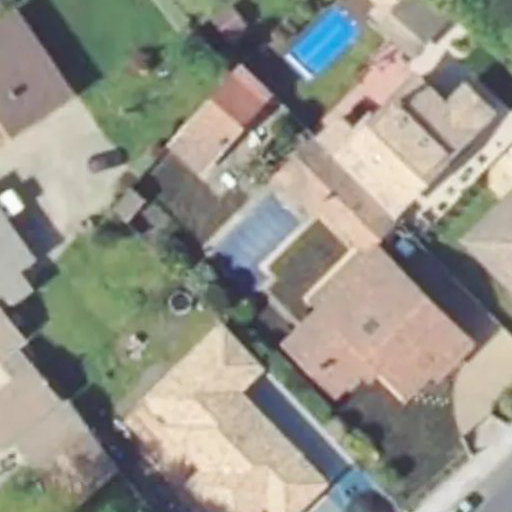pool: (202, 183, 309, 280), (288, 3, 361, 80)
